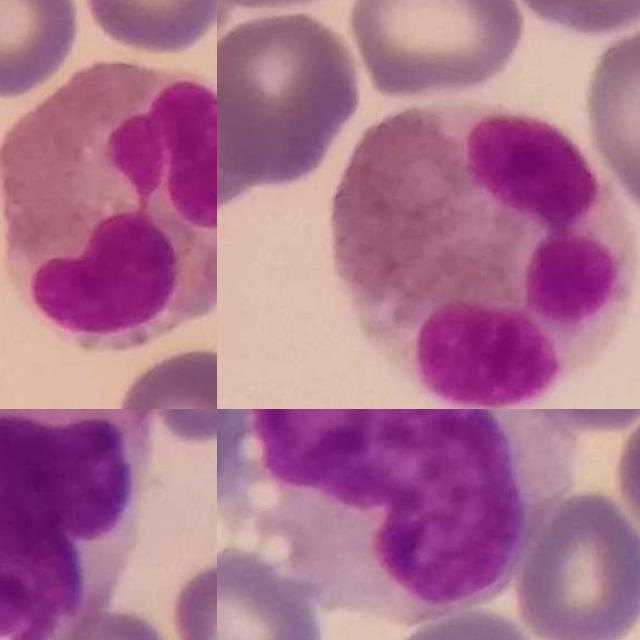Eosinophil: (329, 103, 631, 408), (0, 59, 217, 349)
Monocyte: (238, 409, 578, 622), (0, 409, 148, 640)
